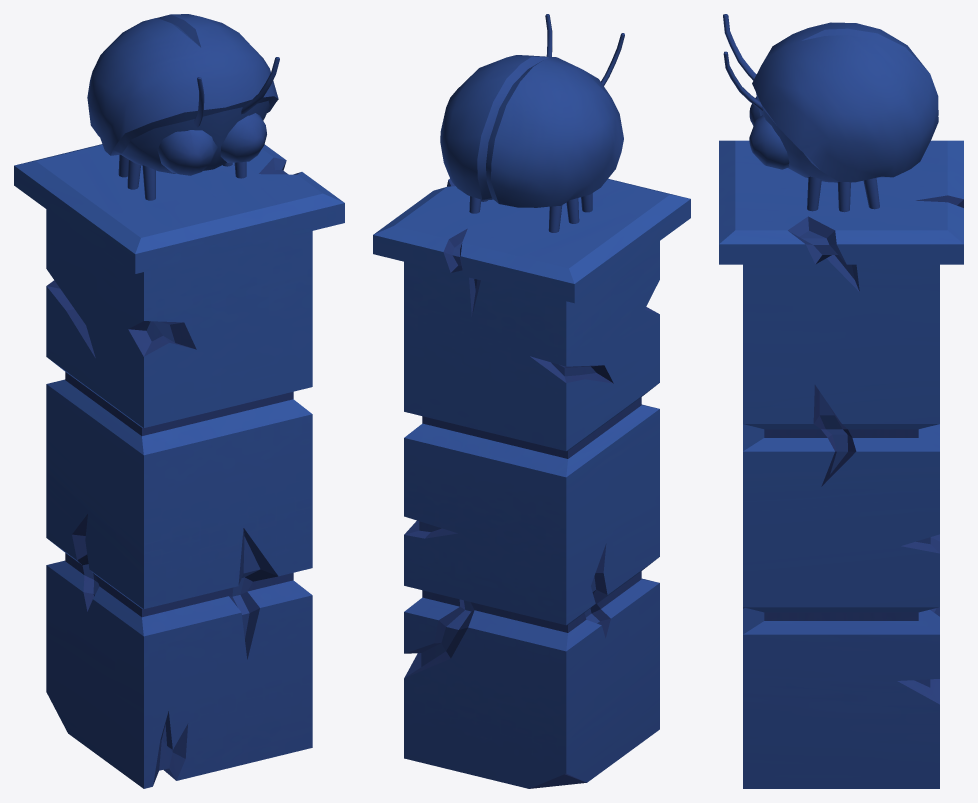
Rendered from SM_WallCorner_03.fbx.
3 renders of one model, left to right at view 1: azimuth 30°, elevation 25°; view 2: azimuth 150°, elevation 25°; view 3: azimuth 270°, elevation 25°, orthographic. The views are drawn at different scales.
Parts seen in each view (by area): view 1: polySurface149; view 2: polySurface149; view 3: polySurface149.
Boxes of the visible parts, x1,y1,x2,y2 form: polySurface149: (14,14,344,788); polySurface149: (373,14,690,788); polySurface149: (719,14,963,788).
Size of the model in its own units: 59.84 by 193 by 59.84.
